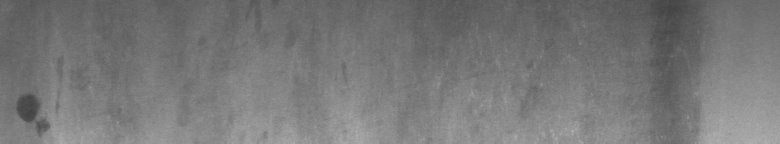fi: (12, 57, 62, 136)
